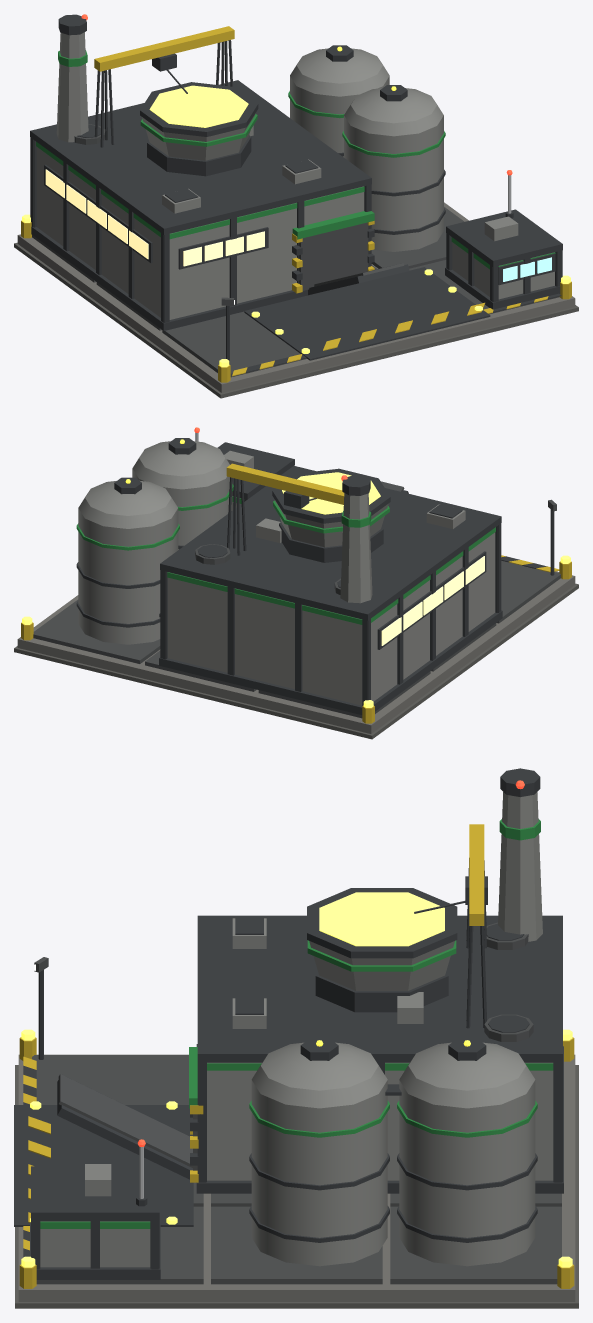
The model's file is refinery_lod1.glb.
3 views of the same model, one above another, from view 1: azimuth 30°, elevation 25°; view 2: azimuth 150°, elevation 25°; view 3: azimuth 270°, elevation 25° (orthographic). The views are drawn at different scales.
Parts seen in each view (by area): view 1: Refinery_LOD1_Walls, Refinery_LOD1_Frame, Refinery_LOD1_Foundation, Refinery_LOD1_Details; view 2: Refinery_LOD1_Walls, Refinery_LOD1_Frame, Refinery_LOD1_Foundation, Refinery_LOD1_Details; view 3: Refinery_LOD1_Walls, Refinery_LOD1_Foundation, Refinery_LOD1_Frame, Refinery_LOD1_Details.
Boxes of the visible parts, left/top/right/bottom form: Refinery_LOD1_Walls: left=36, top=32, right=555, bottom=319; Refinery_LOD1_Frame: left=30, top=26, right=562, bottom=330; Refinery_LOD1_Foundation: left=14, top=202, right=578, bottom=398; Refinery_LOD1_Details: left=58, top=14, right=518, bottom=364; Refinery_LOD1_Walls: left=78, top=441, right=495, bottom=705; Refinery_LOD1_Frame: left=159, top=442, right=502, bottom=714; Refinery_LOD1_Foundation: left=14, top=555, right=578, bottom=739; Refinery_LOD1_Details: left=76, top=427, right=556, bottom=627; Refinery_LOD1_Walls: left=40, top=792, right=553, bottom=1267; Refinery_LOD1_Foundation: left=14, top=1029, right=578, bottom=1308; Refinery_LOD1_Frame: left=30, top=824, right=563, bottom=1279; Refinery_LOD1_Details: left=34, top=768, right=540, bottom=1242.
Size of the model in its own units: 2.98 by 1.88 by 2.99.
